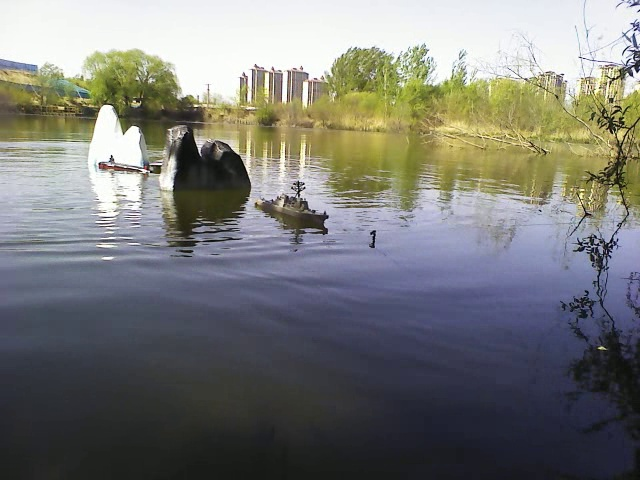iceberg: (86, 93, 150, 166)
rock: (156, 115, 254, 193)
submarine: (96, 159, 157, 175)
warship: (259, 186, 331, 231)
